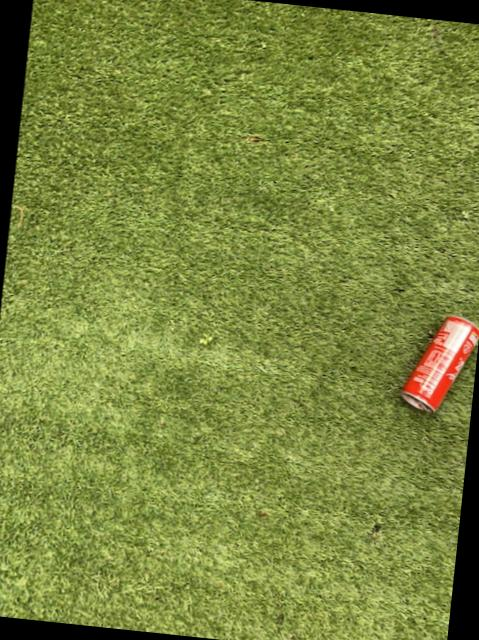metal: (402, 317, 479, 413)
